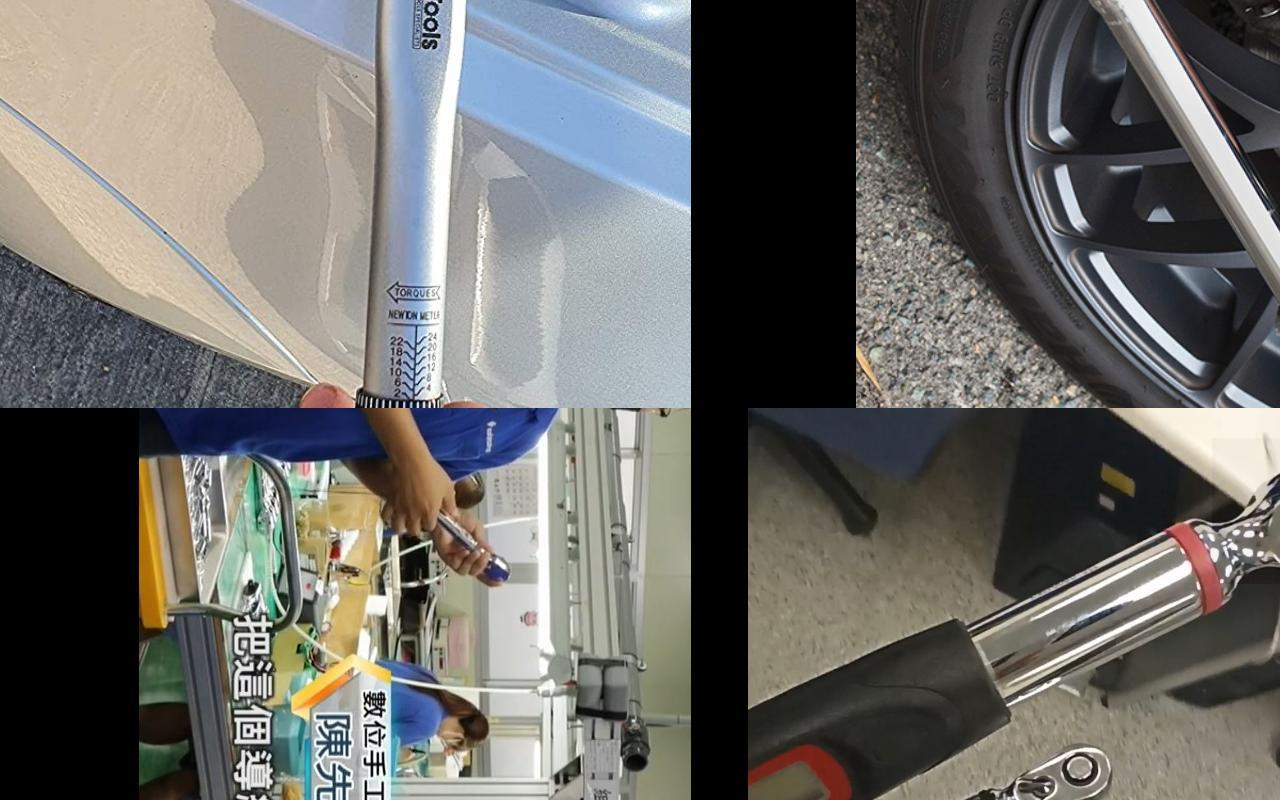Tool: (1211, 438, 1280, 584), (998, 744, 1112, 800)
